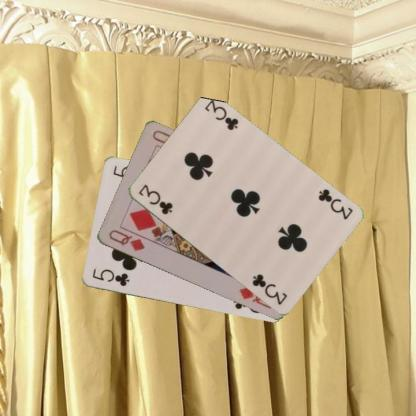3c: (315, 186, 353, 221), (135, 182, 174, 216)
5c: (90, 266, 130, 288)
Qd: (106, 227, 146, 253)
